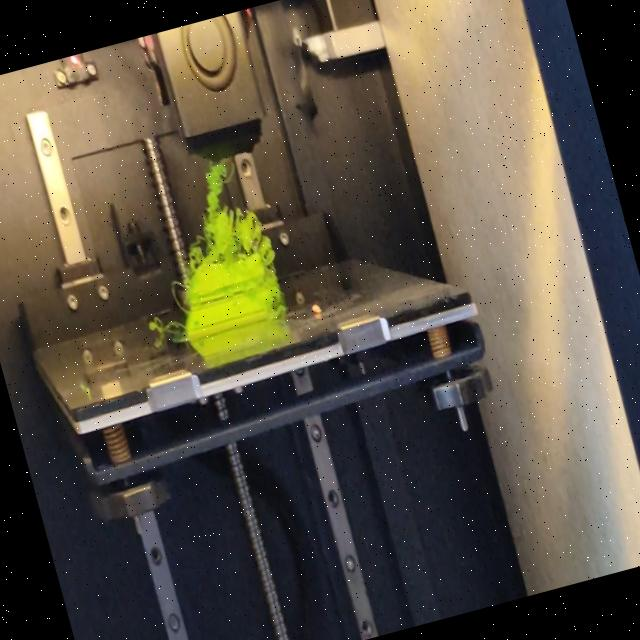spaghetti: (165, 156, 274, 274), (147, 311, 184, 339), (168, 278, 186, 309)
